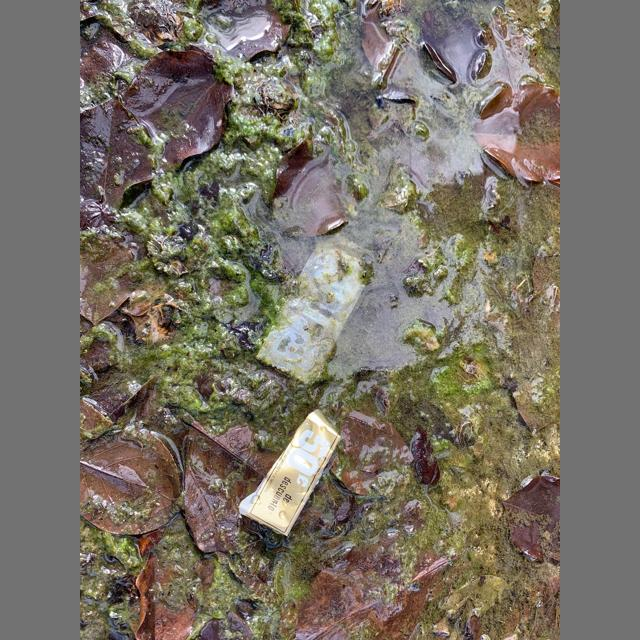litter: (256, 234, 374, 385), (239, 409, 341, 536)
